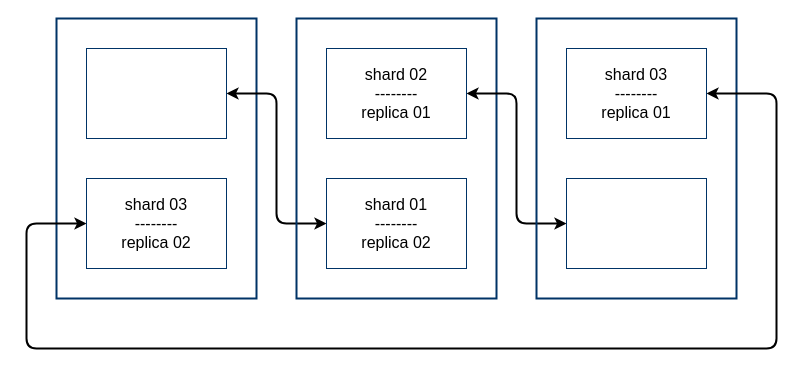
Some shapes in this 803 by 375 pixel diagram are drawn without their labels. Each missing label, with the centre of its shape:
shard 01 -------- replica 01: pixel 156 93
shard 02 -------- replica 02: pixel 636 223
